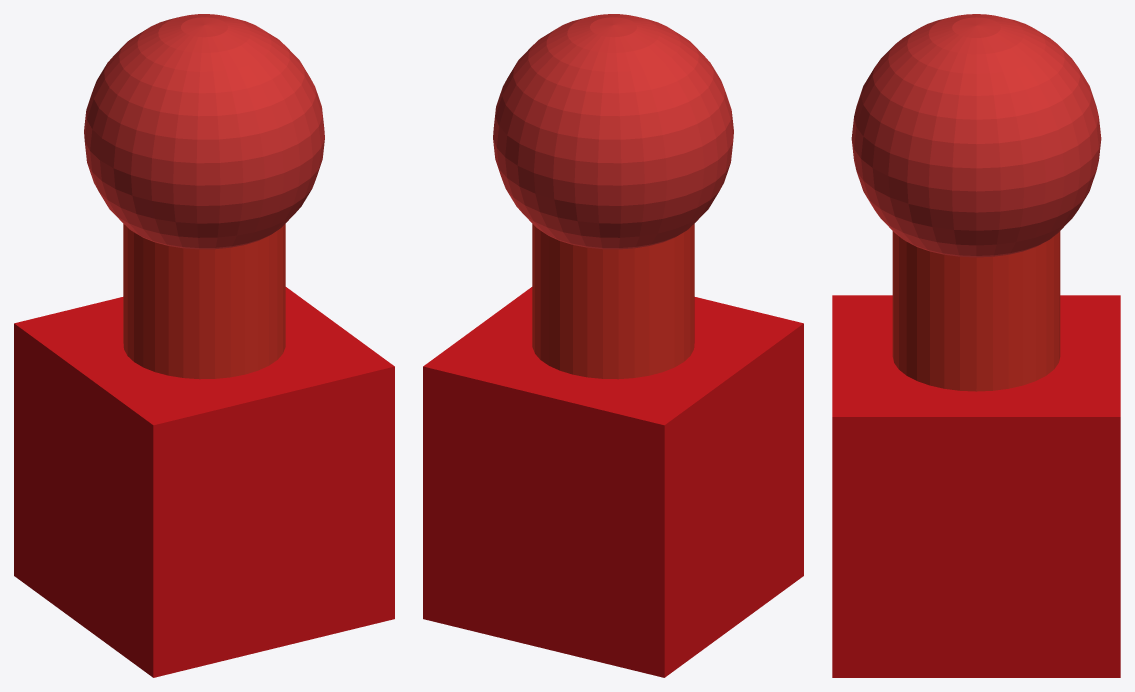
File: redbox.fbx
The picture shows the model from 3 angles, left to right: view 1: azimuth 30°, elevation 25°; view 2: azimuth 150°, elevation 25°; view 3: azimuth 270°, elevation 25°; orthographic projection. The views are drawn at different scales.
Visible parts, largest first — view 1: Cube, Sphere, Cylinder; view 2: Cube, Sphere, Cylinder; view 3: Cube, Sphere, Cylinder.
Boxes of the visible parts, x1,y1,x2,y2 form: Cube: (14, 287, 394, 677); Sphere: (84, 14, 324, 249); Cylinder: (123, 224, 285, 379); Cube: (423, 287, 803, 677); Sphere: (493, 14, 733, 249); Cylinder: (532, 224, 694, 379); Cube: (832, 295, 1120, 677); Sphere: (851, 14, 1101, 257); Cylinder: (892, 231, 1060, 391).
Size of the model in its own units: 100 by 227 by 100.
